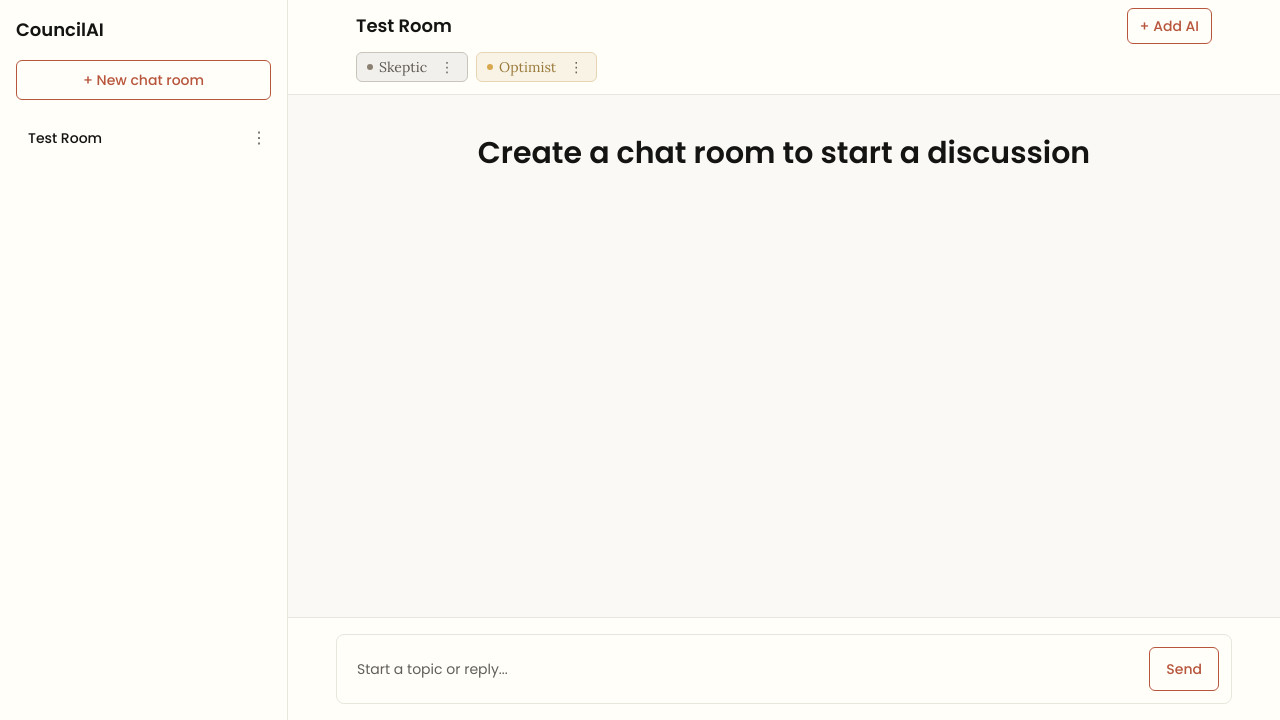
Test: Auto-discuss › auto-runs discussion after the user sends the first topic
The width and height of the screenshot is (1280, 720).
In the text box labelled "Start a topic or reply": (743, 669) [349,647,1137,691], type "Should we launch?"
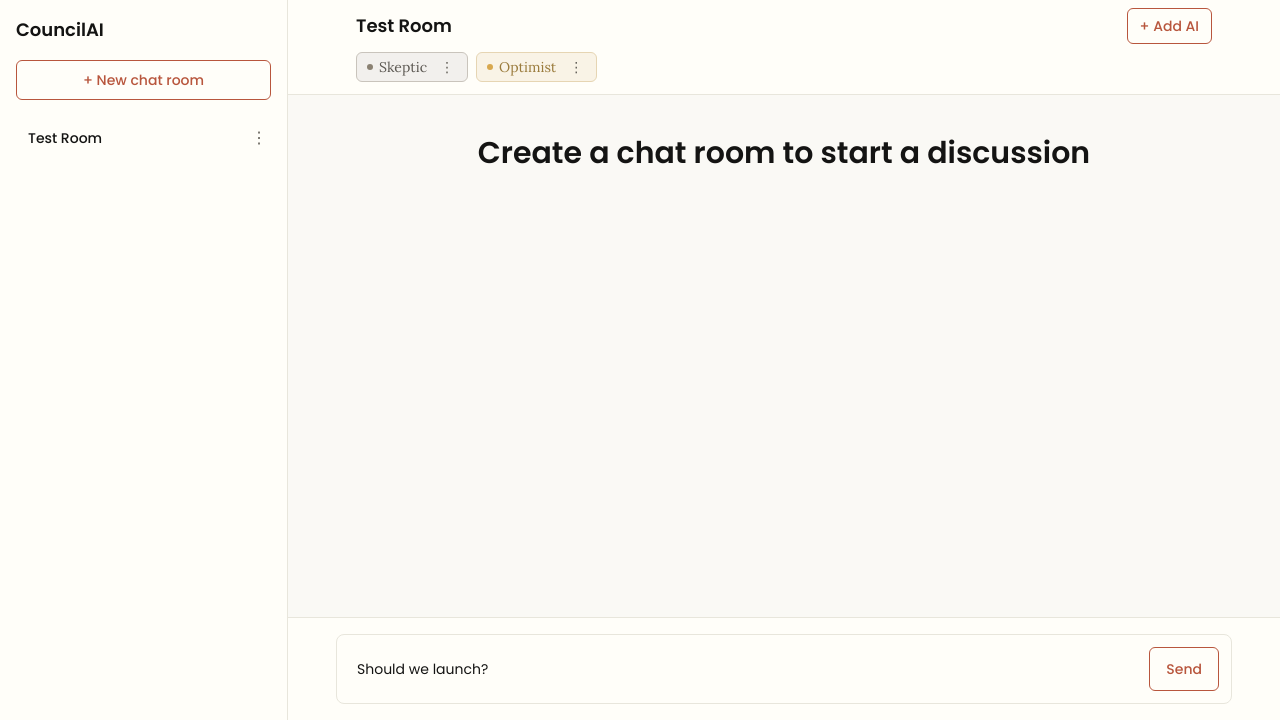
Click the button "Send": (1184, 669) [1149,647,1219,691]
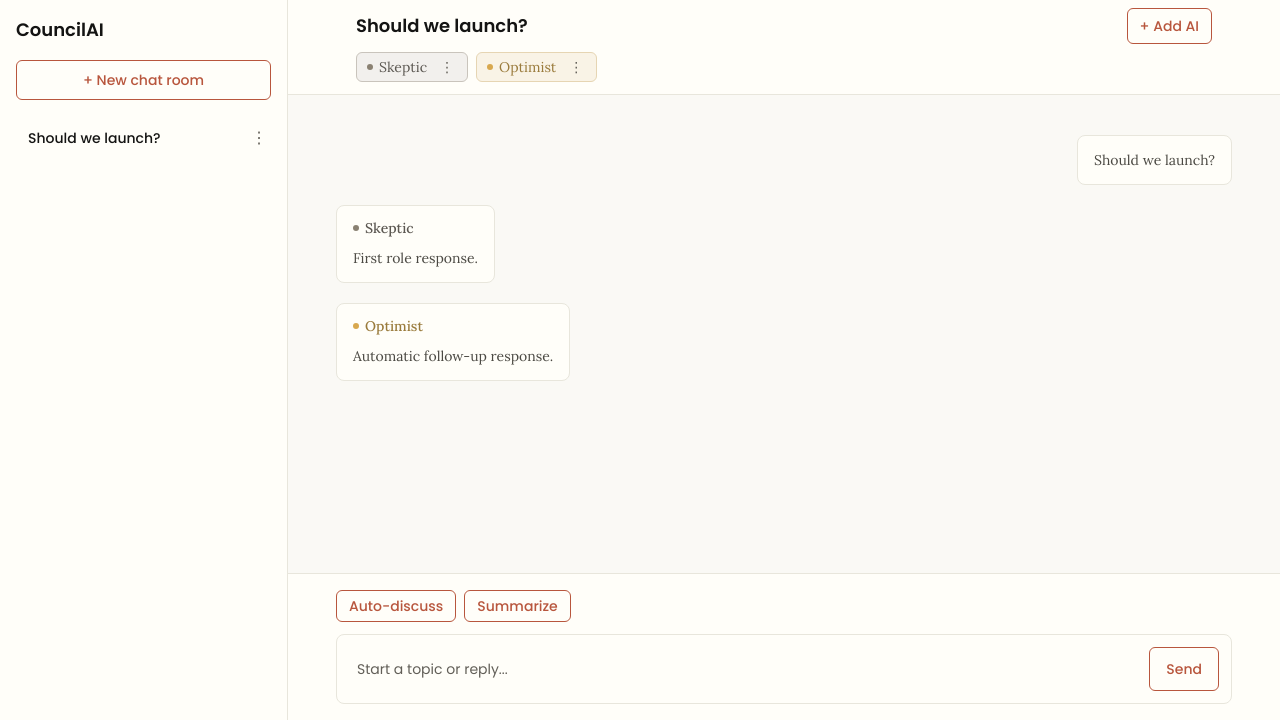
Expected: the text "Automatic follow-up response." is shown, [353,344,553,368]
Expected: the button "Summarize" is enabled, [464,590,571,622]
